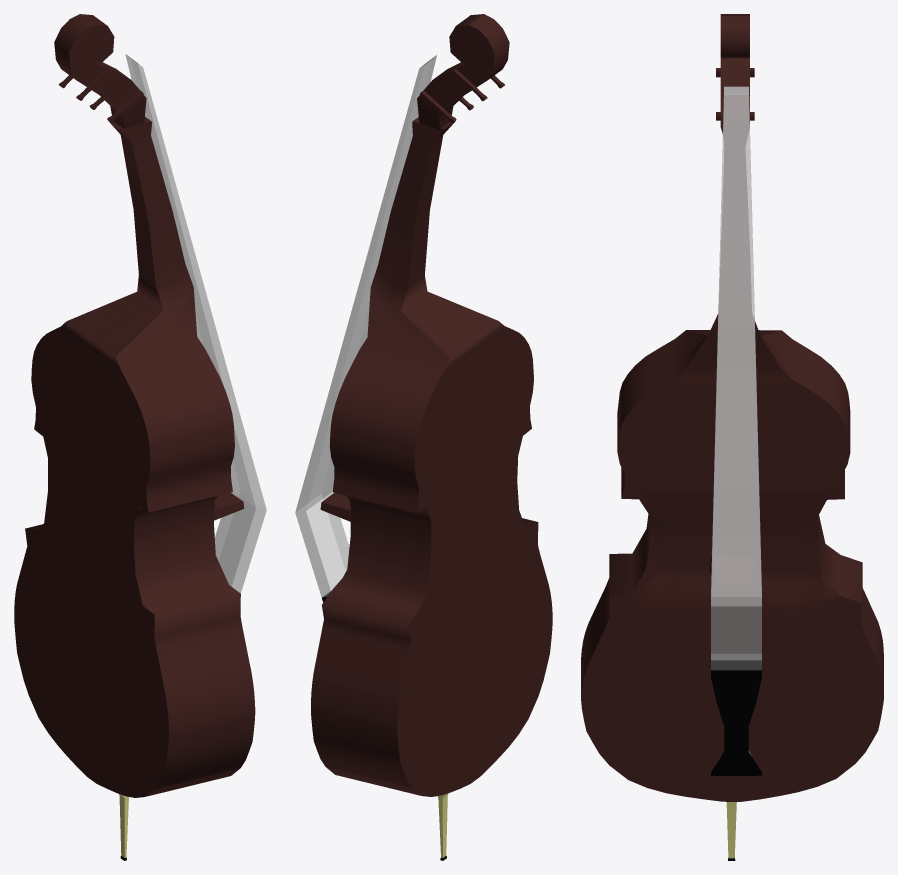
File: DoubleBass.fbx
3 renders of one model, left to right at view 1: azimuth 30°, elevation 25°; view 2: azimuth 150°, elevation 25°; view 3: azimuth 270°, elevation 25°, orthographic. The views are drawn at different scales.
Visible parts, largest first — view 1: pCube4; view 2: pCube4; view 3: pCube4.
Boxes of the visible parts, left/top/right/bottom form: pCube4: left=14, top=14, right=266, bottom=860; pCube4: left=295, top=14, right=552, bottom=860; pCube4: left=581, top=14, right=883, bottom=860.
Bounding box in the file's own units: 62.27 × 262 × 86.77.
